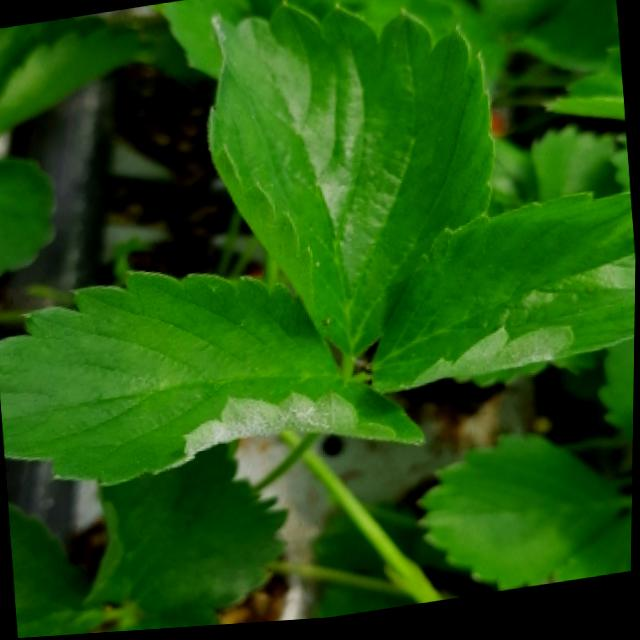Powdery Mildew Leaf: (208, 1, 495, 371), (0, 270, 426, 490), (371, 197, 636, 397)
